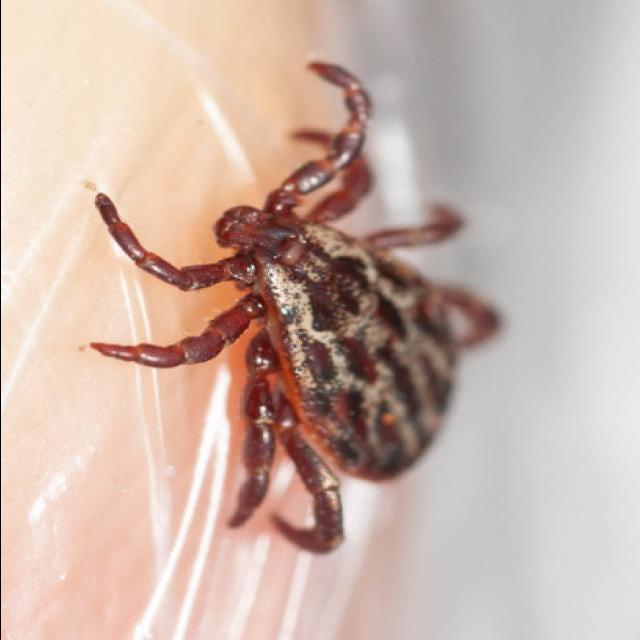Dermacentor Reticulatus-M: (85, 60, 505, 556)
